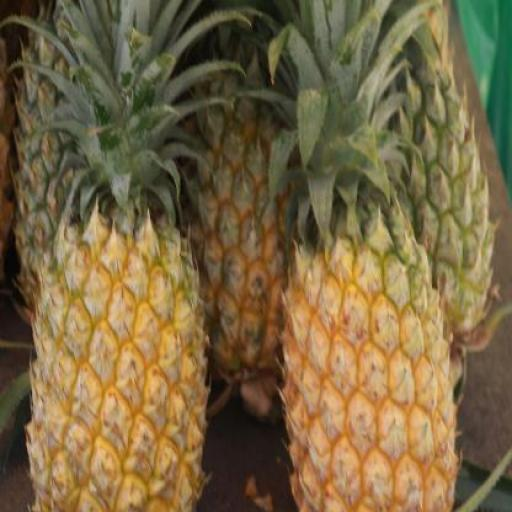Pineapple - v8 v1: (29, 213, 205, 512), (288, 225, 457, 511)
